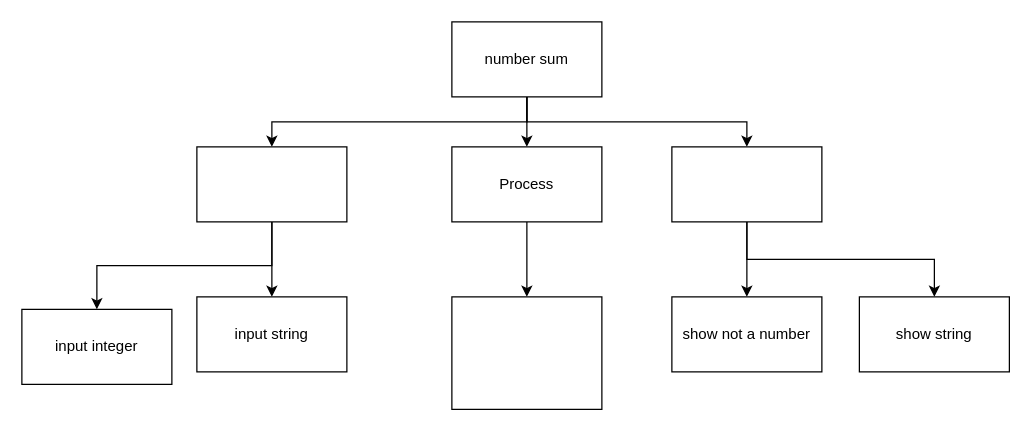
Image size: 1031x431. Some labels were removed from this diagram. Each missing label, with the box of its shape:
for counter = 1 counter < number counter ++: (451, 296, 602, 409)
Input: (196, 146, 347, 222)
Output: (671, 146, 822, 222)
